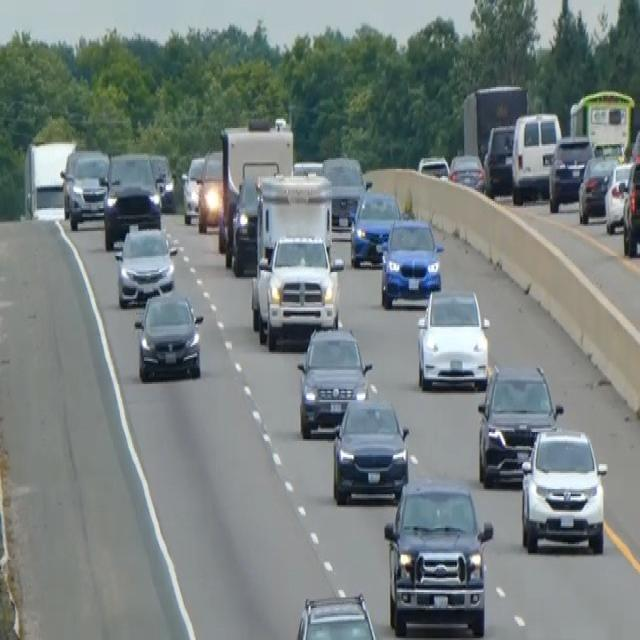car: (519, 425, 608, 555), (476, 361, 562, 487), (296, 323, 373, 438), (331, 393, 410, 505), (415, 285, 490, 391), (133, 288, 204, 382), (101, 149, 162, 249), (379, 215, 443, 308), (113, 222, 177, 308), (510, 109, 561, 204), (291, 590, 381, 638), (60, 146, 109, 229), (349, 188, 401, 266), (320, 153, 368, 231), (547, 132, 593, 212), (230, 174, 261, 272), (577, 151, 617, 222), (196, 147, 224, 233), (483, 122, 515, 194), (604, 158, 632, 233), (622, 156, 639, 256), (181, 155, 205, 224), (447, 151, 486, 192), (148, 151, 175, 210), (417, 153, 449, 179)
jeep: (382, 476, 494, 636)
lorry: (22, 137, 76, 219)
